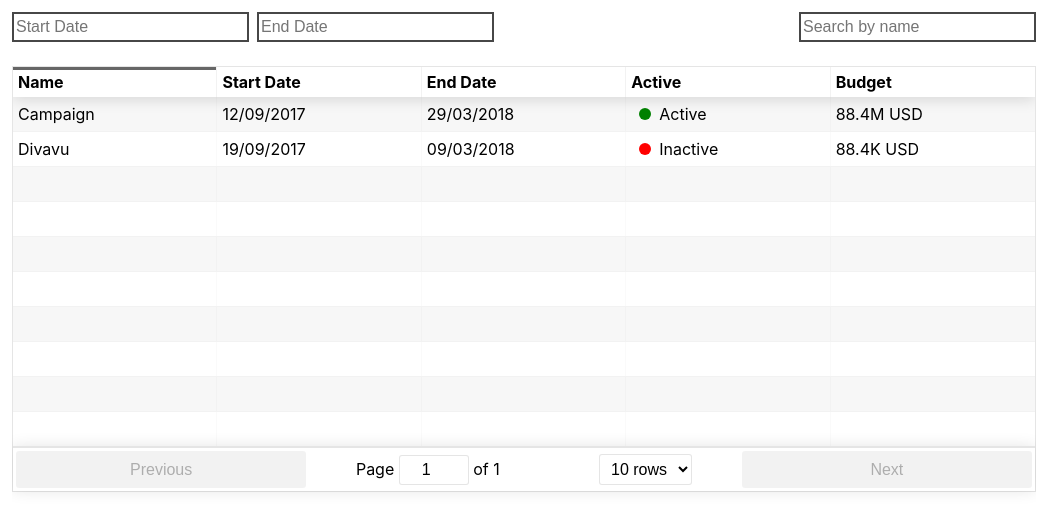
it: checks filters clear
Type "div" into the field with id "FilterByName" at point(918, 27), box [799, 12, 1036, 42]
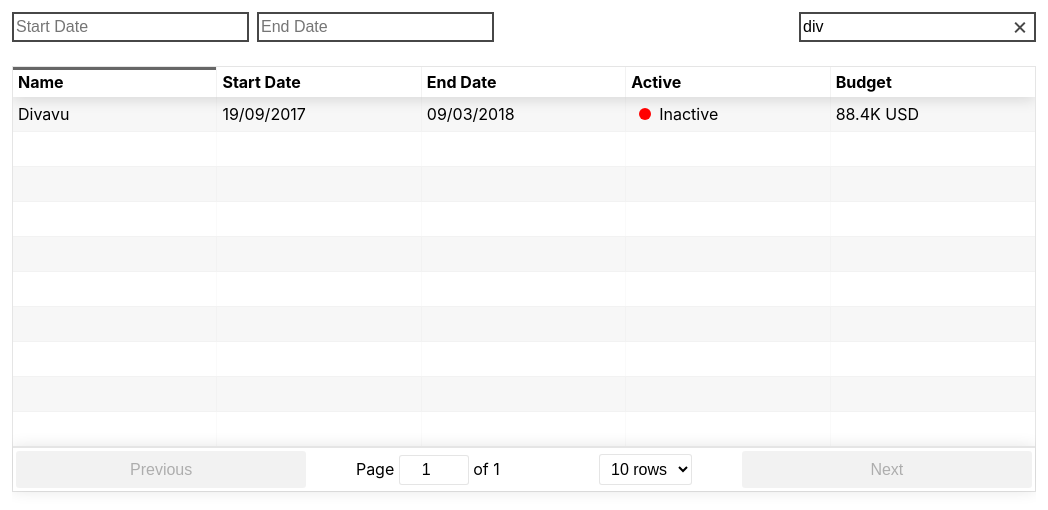
Click the text with id "ClearName" at point(1020, 26), box [1012, 11, 1028, 40]
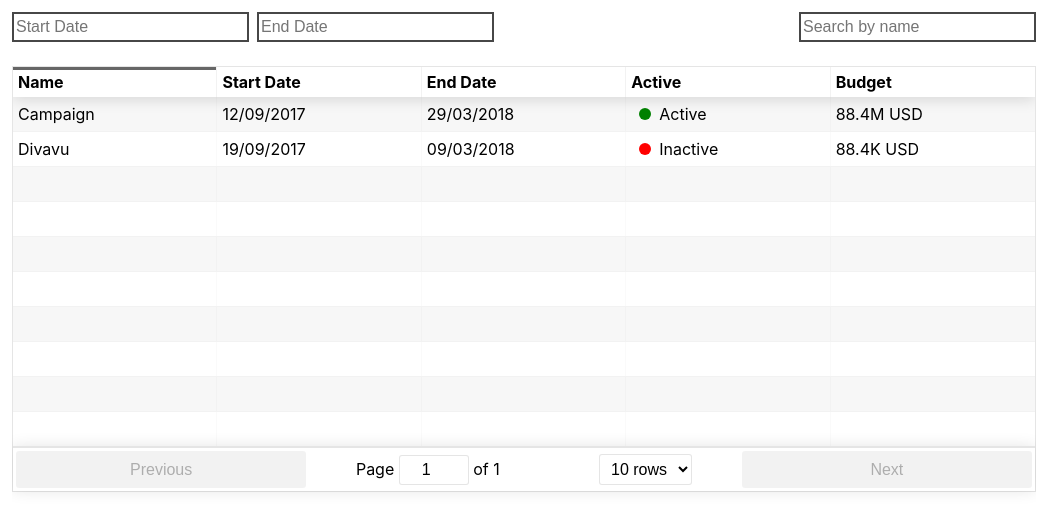
Result: the field with id "FilterByName" is empty at [799, 12, 1036, 42]
Type "01/01/2017" into the field with id "StartDate" at point(130, 27), box [12, 12, 249, 42]
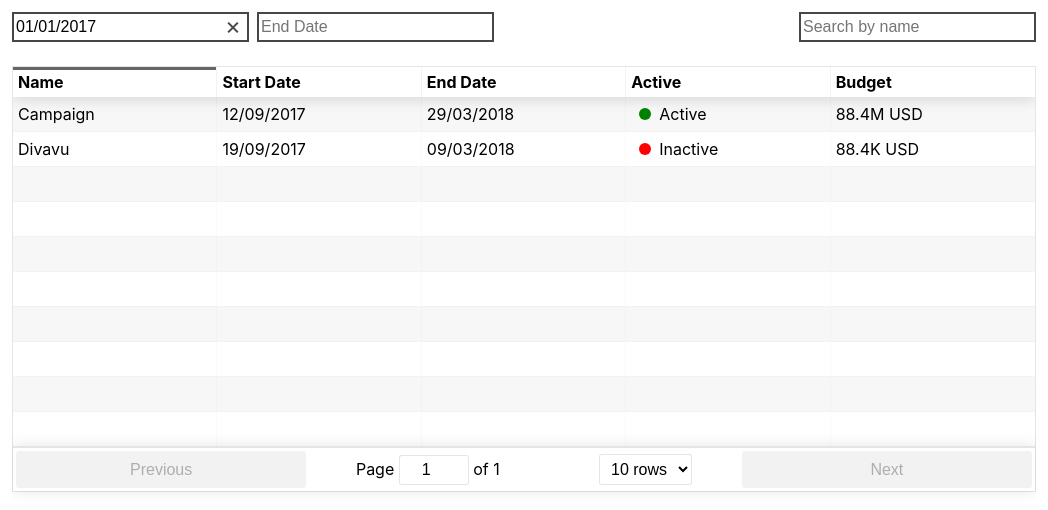
Click the text with id "ClearStartDate" at point(233, 26), box [225, 11, 241, 40]
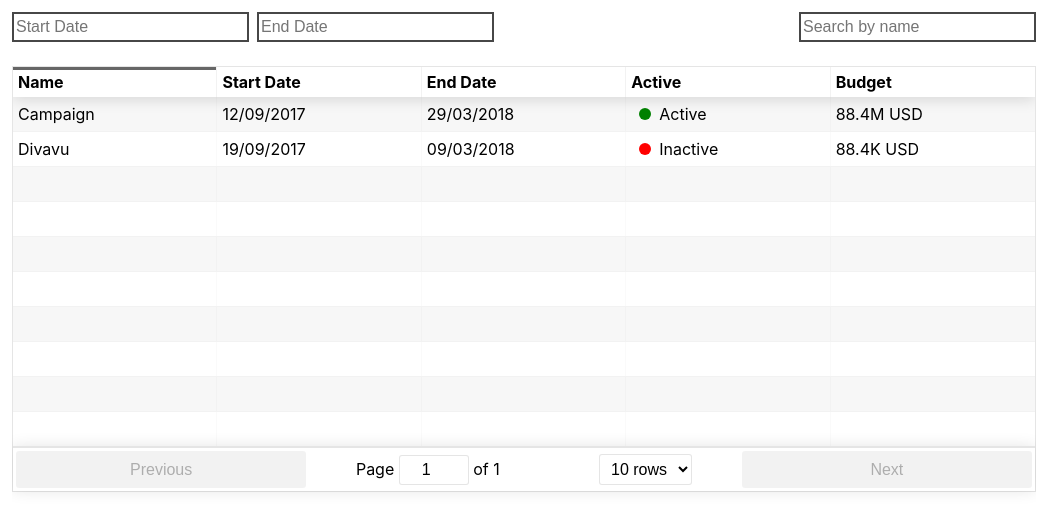
Result: the field with id "StartDate" is empty at [12, 12, 249, 42]
Type "12/12/2017" into the field with id "EndDate" at point(376, 27), box [257, 12, 494, 42]
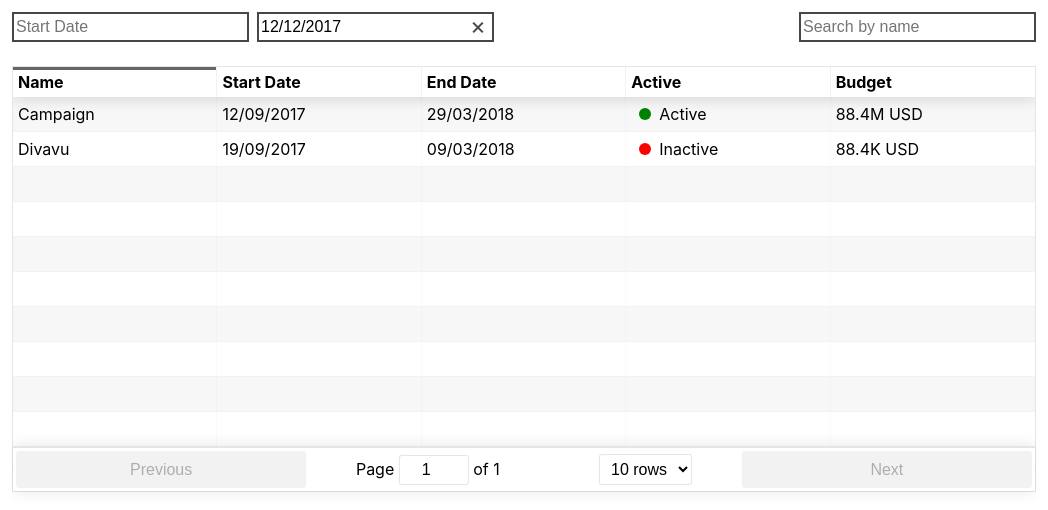
Click the text with id "ClearEndDate" at point(478, 26), box [470, 11, 486, 40]
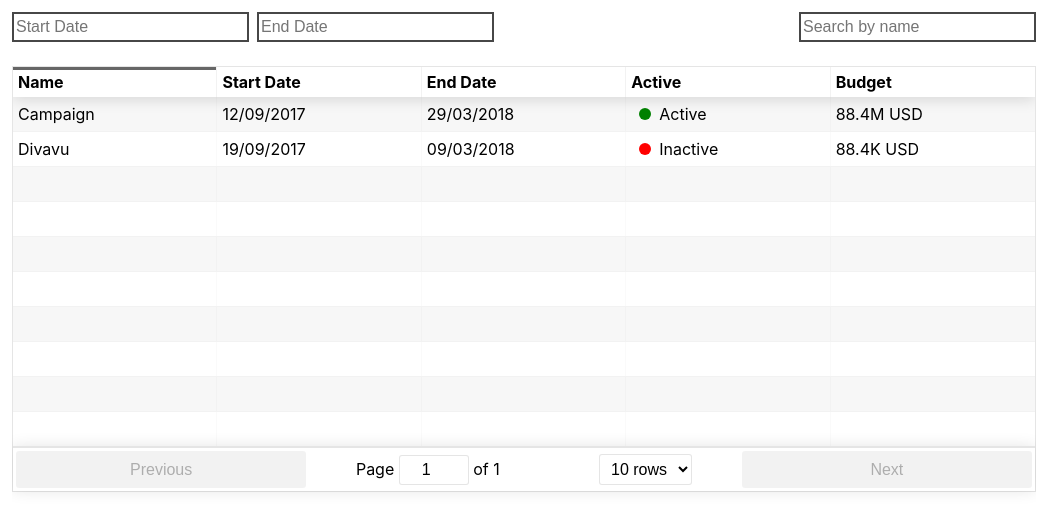
Result: the field with id "EndDate" is empty at [257, 12, 494, 42]
